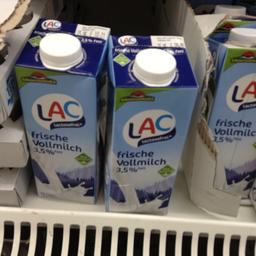milk: (14, 15, 108, 209), (102, 33, 196, 206), (208, 24, 255, 206)
